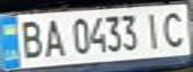0: (66, 15, 90, 56)
3: (118, 11, 142, 52), (103, 12, 124, 53)
4: (87, 14, 109, 54)
A: (39, 16, 69, 58)
B: (12, 17, 48, 60)
C: (157, 8, 193, 48)
I: (139, 9, 166, 51)
